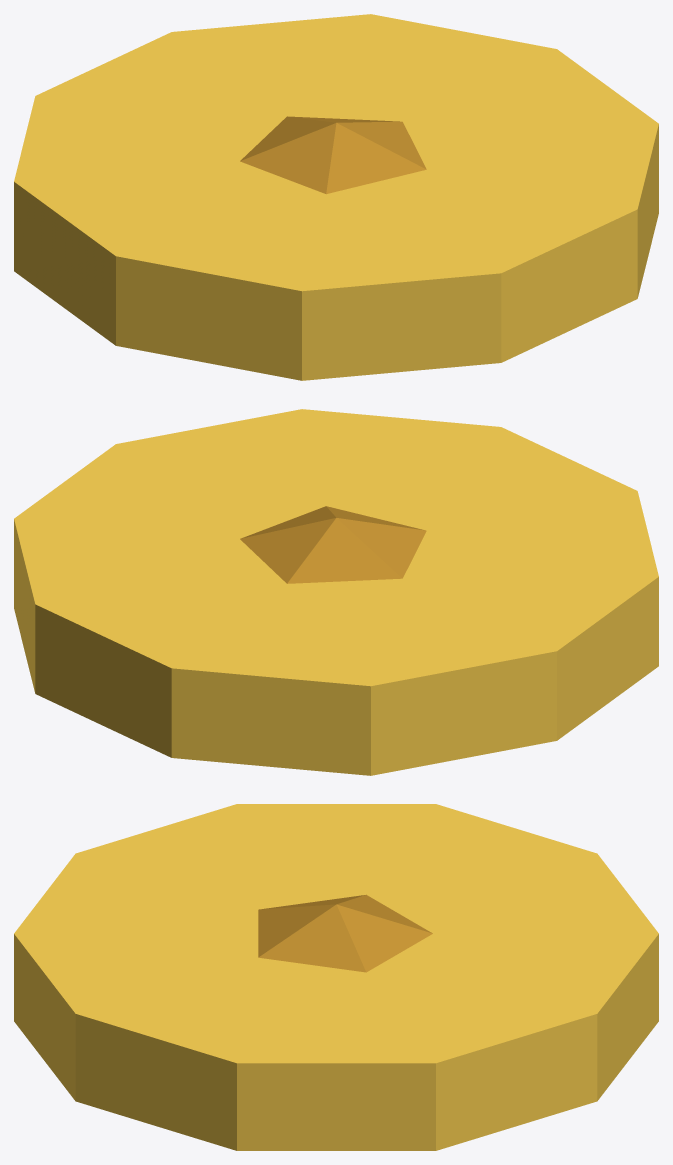
Rendered from SM_Currency_Coin.fbx.
3 views of the same model, one above another, from view 1: azimuth 30°, elevation 25°; view 2: azimuth 150°, elevation 25°; view 3: azimuth 270°, elevation 25° (orthographic). The views are drawn at different scales.
Parts seen in each view (by area): view 1: SM_Currency_Coin; view 2: SM_Currency_Coin; view 3: SM_Currency_Coin.
Part boxes in pixels (x1=…): SM_Currency_Coin: x1=14, y1=14, x2=658, y2=380; SM_Currency_Coin: x1=14, y1=409, x2=658, y2=775; SM_Currency_Coin: x1=14, y1=804, x2=658, y2=1150.
Bounding box in the file's own units: 0.5706 × 0.12 × 0.6.
